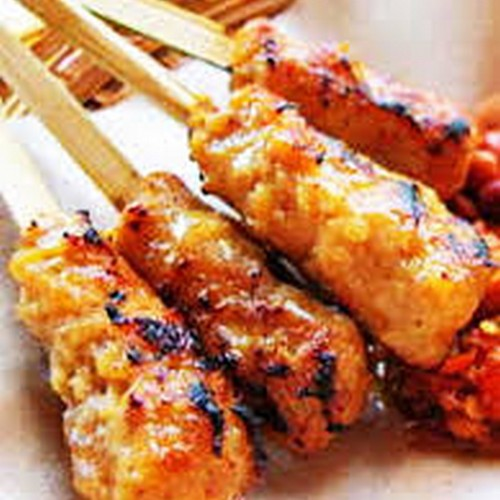sate lilit: (8, 67, 490, 489)
